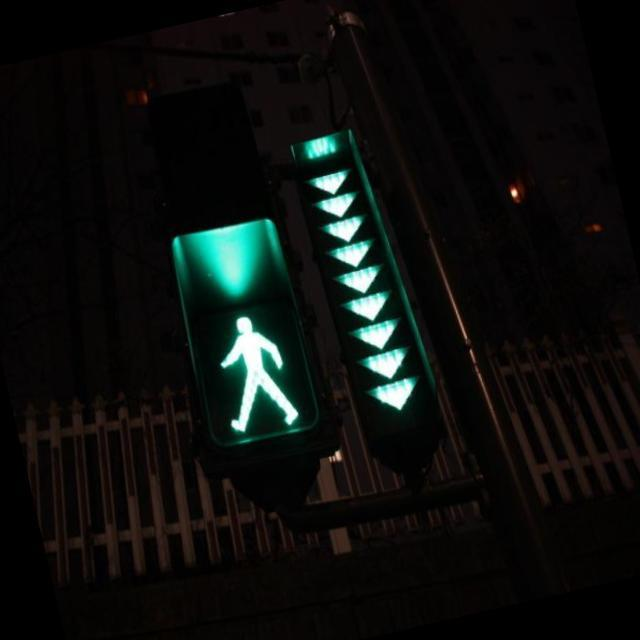greenlight: (129, 63, 342, 465)
